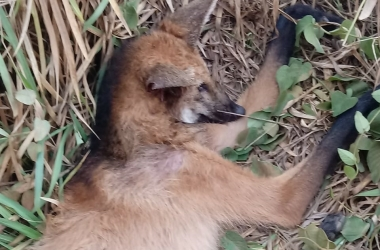LoboGuara: (20, 6, 370, 245)
